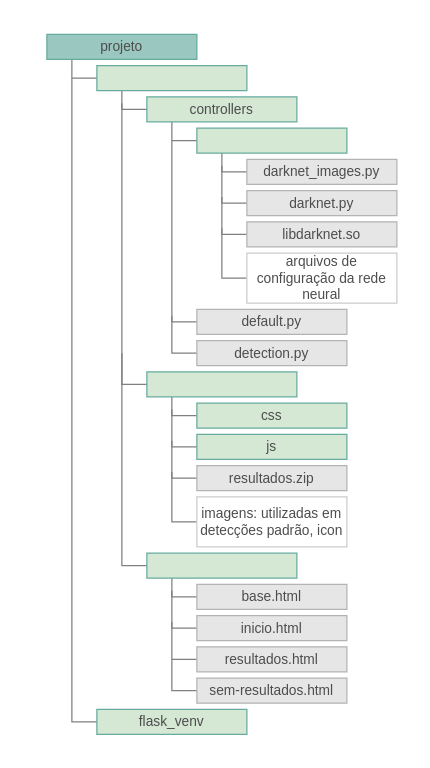
The diagram is 430 pixels wide and 768 high, and some of its shapes have lost their labels. Each missing label, with the box of its shape:
app: (96, 64, 247, 91)
Darknet: (196, 127, 347, 153)
static: (146, 371, 297, 397)
templates: (146, 552, 297, 578)
